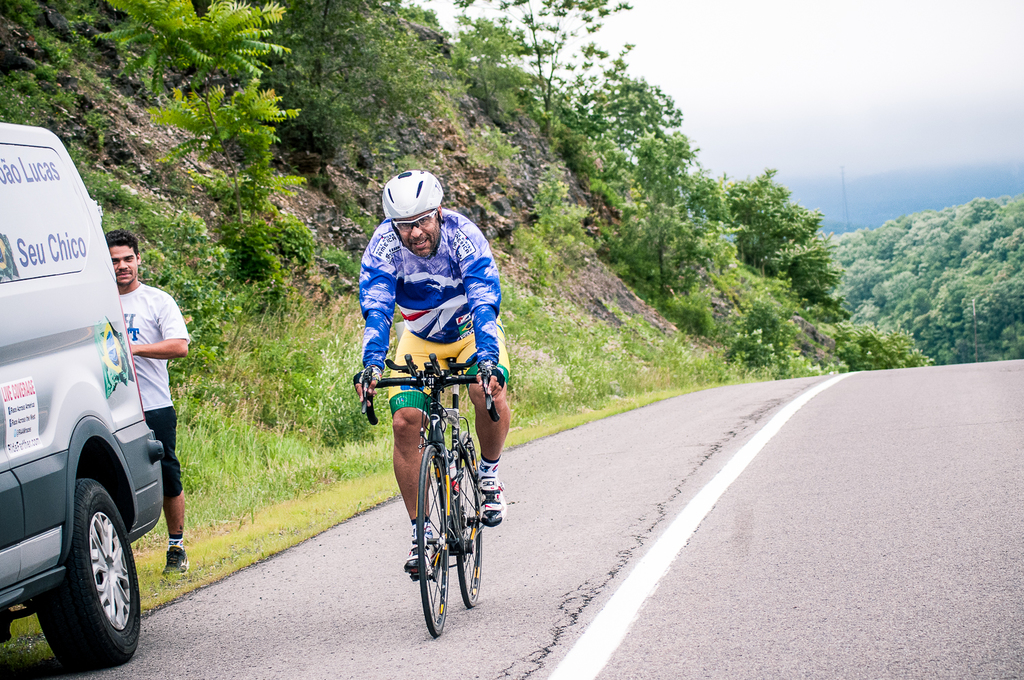Bike: (330, 364, 495, 648)
